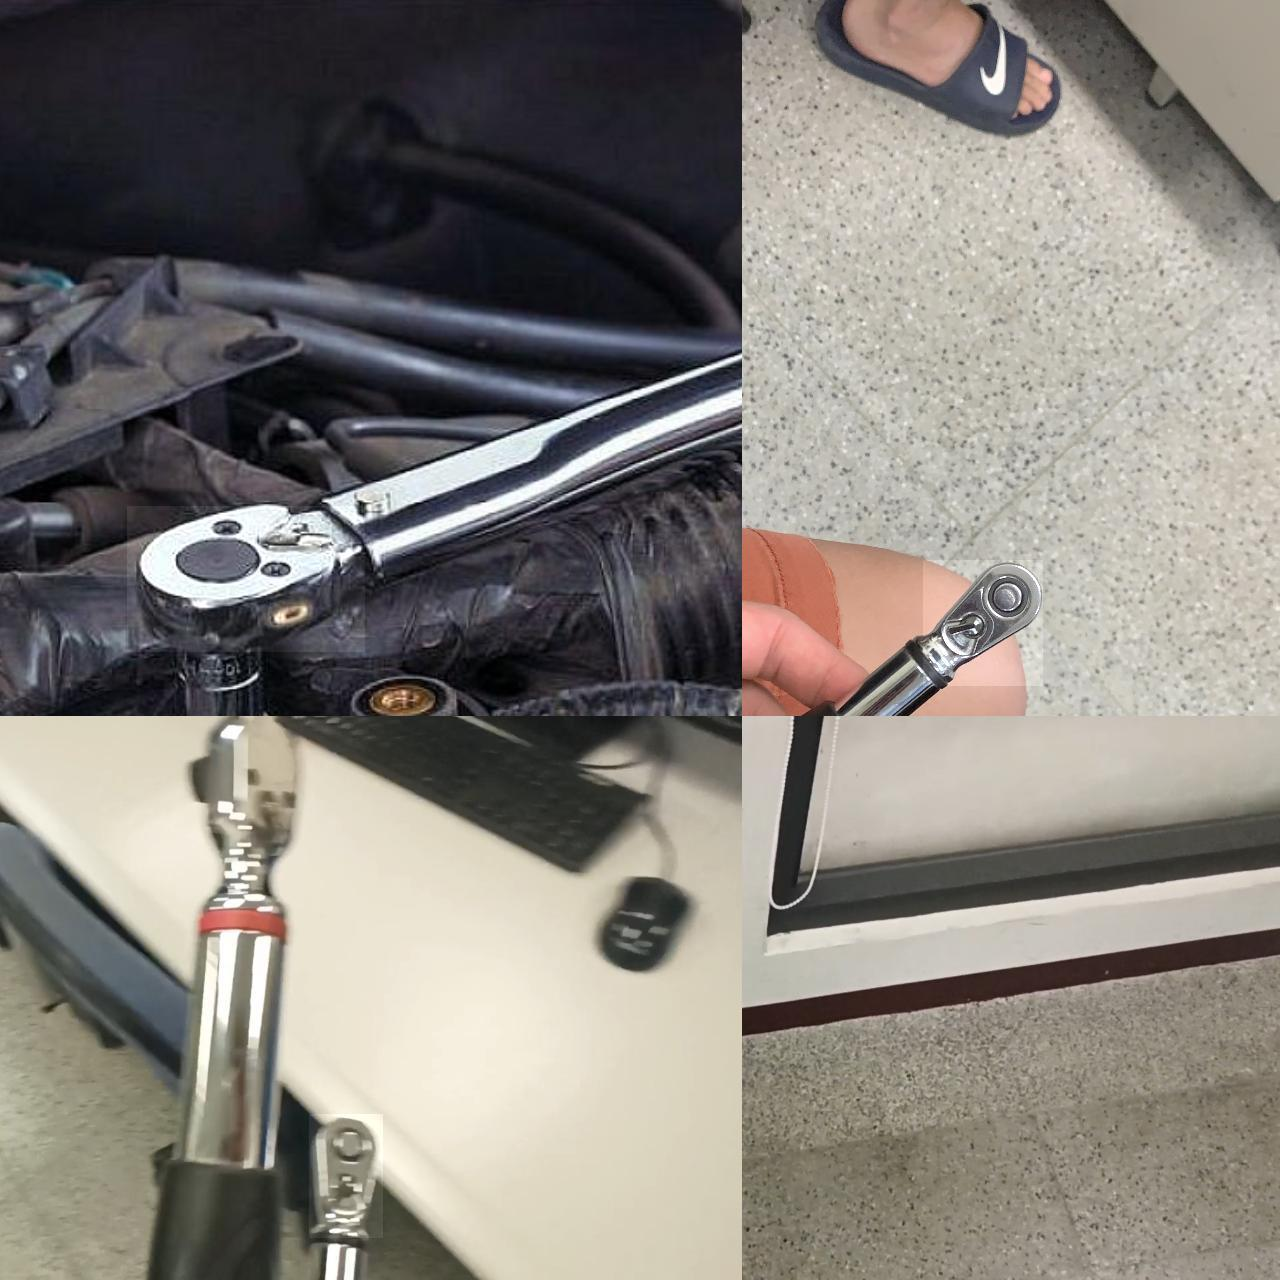Tool: (125, 505, 365, 651), (922, 559, 1042, 685), (308, 1114, 382, 1237)
